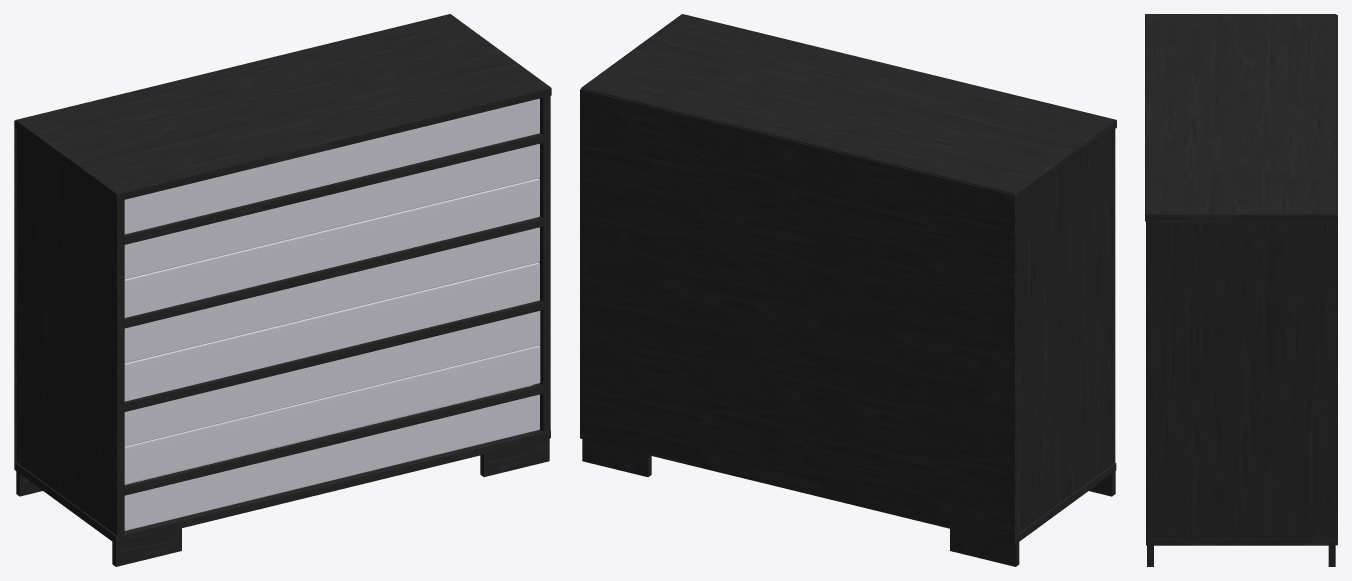
The model's file is abo-B07GFDPB2V.glb.
The picture shows the model from 3 angles, left to right: view 1: azimuth 30°, elevation 25°; view 2: azimuth 150°, elevation 25°; view 3: azimuth 270°, elevation 25°; orthographic projection. The views are drawn at different scales.
Bounding box in the file's own units: 0.994 × 0.816 × 0.404.
Materials: 1 (1 with a texture image).
